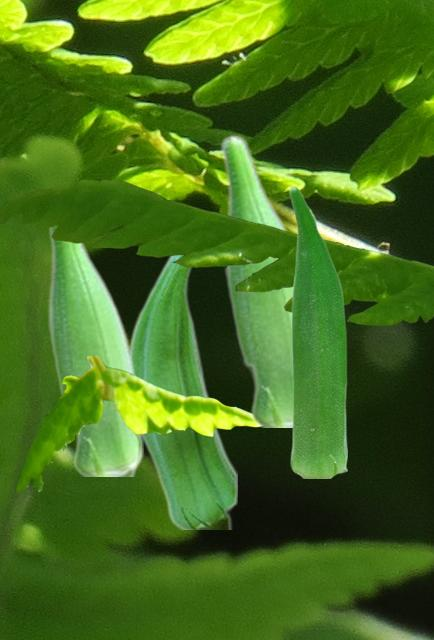okra: (129, 256, 236, 528), (44, 226, 142, 475), (219, 134, 291, 426), (289, 185, 346, 477)
